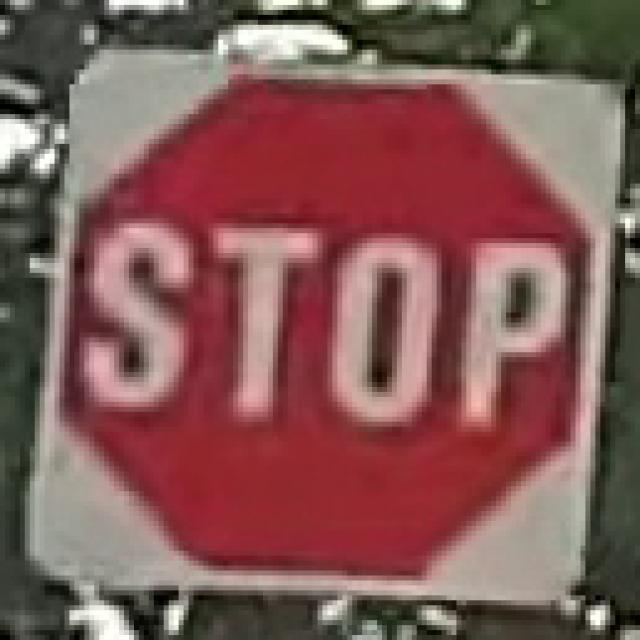mandatorystop_sign: (35, 59, 615, 600)
